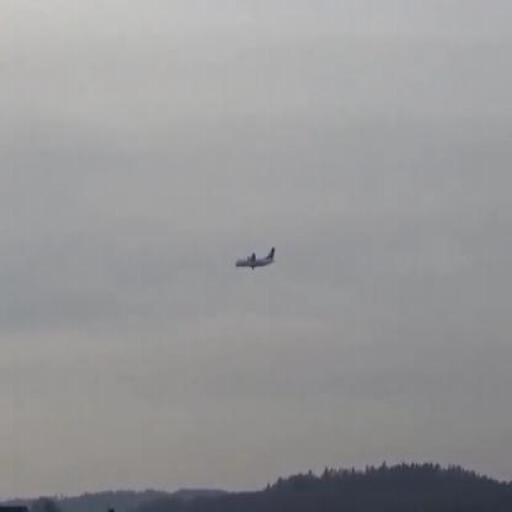aircraft: (235, 246, 277, 272)
